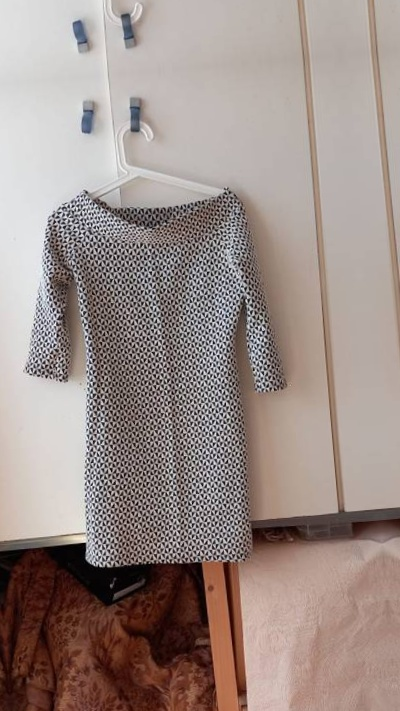Dress: (18, 173, 317, 588)
